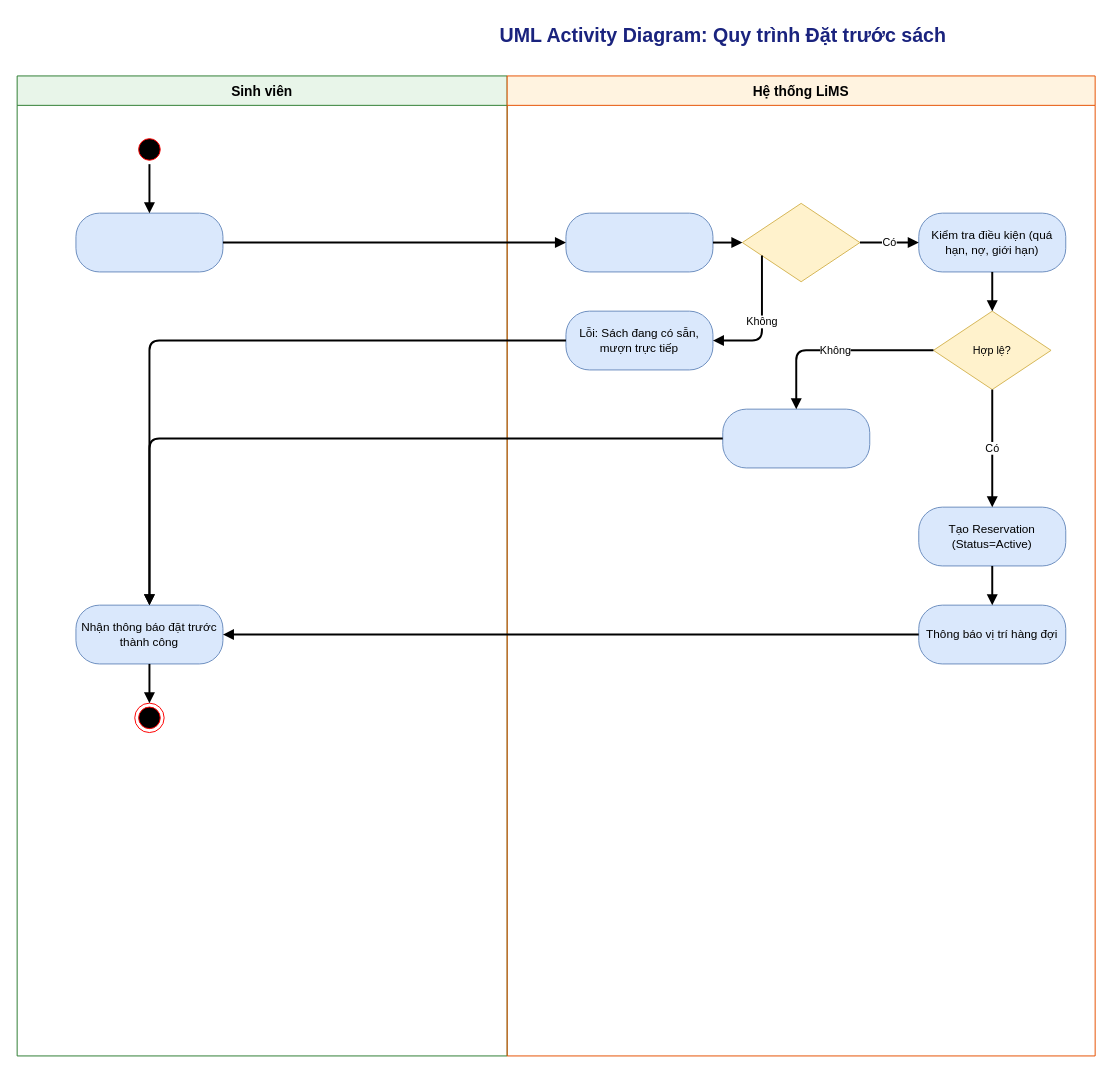
This 1112x1073 diagram has some shape labels left out. The centre of each missing label's shape, as x and y in pixels:
"available = 0?" goes at point 800,242.
"Bấm 'Đặt trước'" goes at point 149,242.
"Kiểm tra số lượng sách = 0?" goes at point 639,242.
"Lỗi: Vượt giới hạn hoặc có nợ" goes at point 796,438.
